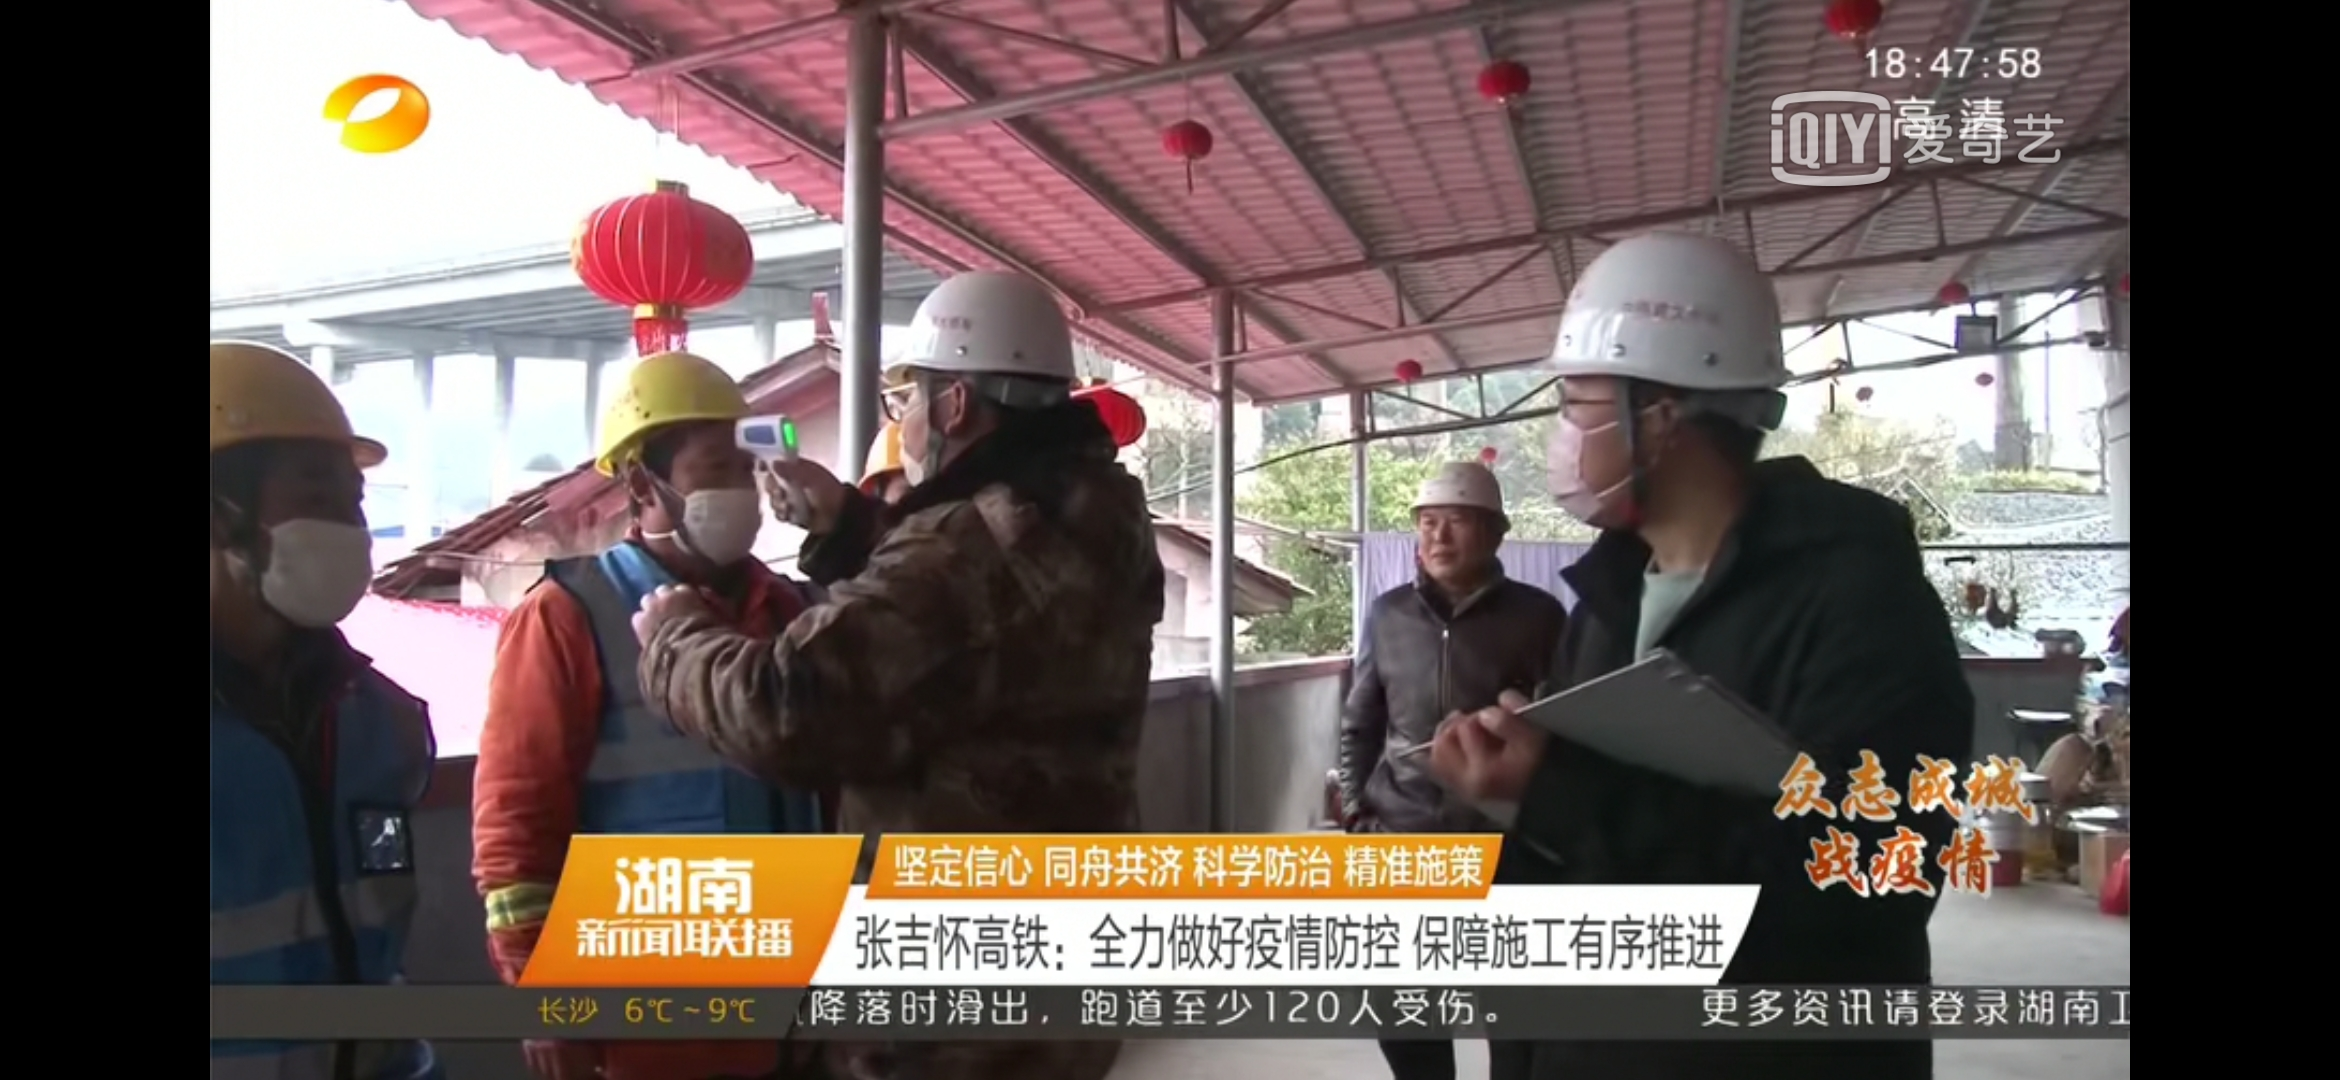correctlyWear: (212, 427, 376, 635), (1533, 333, 1695, 528), (621, 434, 770, 565), (876, 340, 977, 492)
noWear: (1406, 492, 1506, 588)
